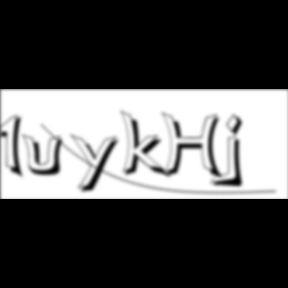1: (1, 114, 30, 182)
H: (161, 112, 227, 182)
j: (224, 113, 250, 191)
k: (120, 108, 174, 181)
u: (22, 132, 70, 178)
y: (70, 132, 124, 196)
